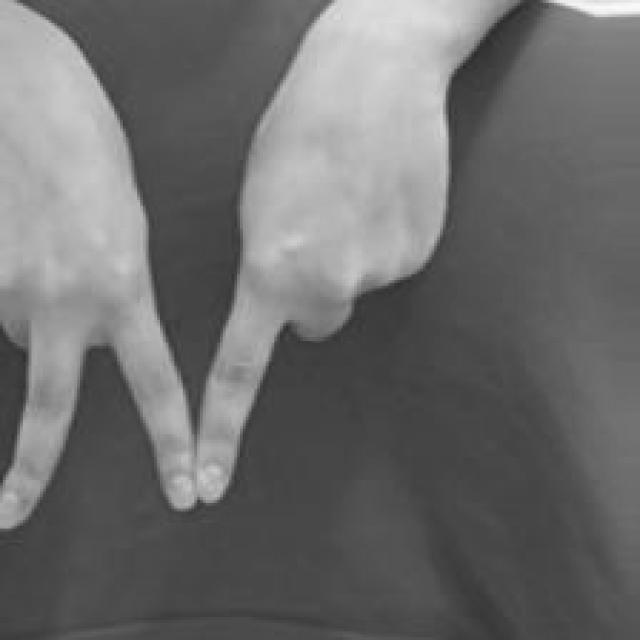N: (2, 78, 453, 540)
